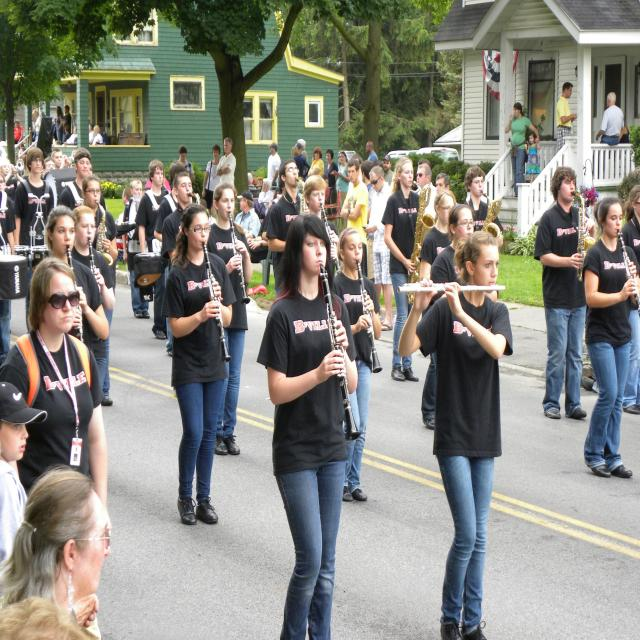clarinet: (315, 262, 365, 448), (194, 240, 234, 366), (60, 243, 92, 358), (226, 210, 254, 308), (616, 229, 640, 321), (319, 204, 344, 271), (84, 237, 104, 297)
drums: (0, 250, 30, 306), (4, 240, 58, 269), (42, 164, 82, 199), (133, 245, 165, 288)
saxophone: (404, 176, 436, 306), (568, 188, 595, 288), (92, 199, 120, 276), (478, 188, 501, 238)
